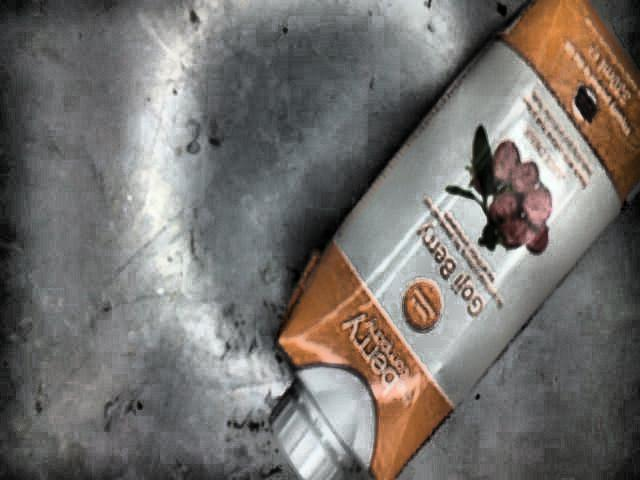Paper: (267, 0, 640, 480)
